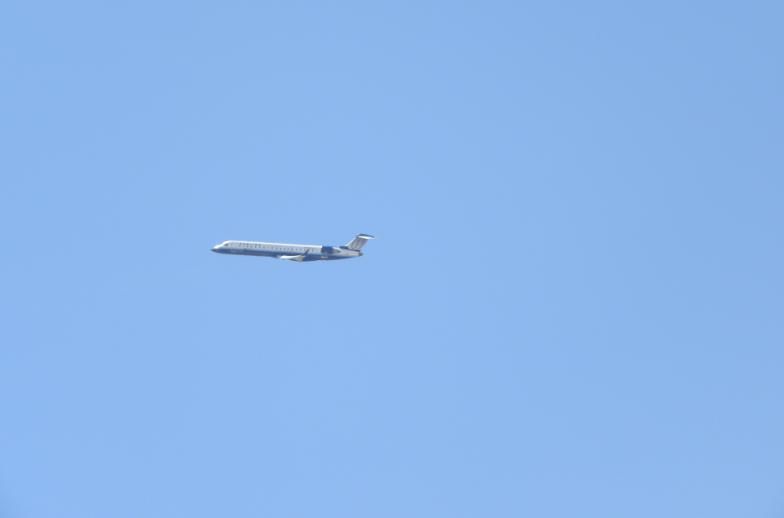aircraft: (211, 234, 375, 262)
